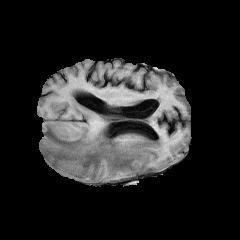glioma: (40, 103, 163, 179)
